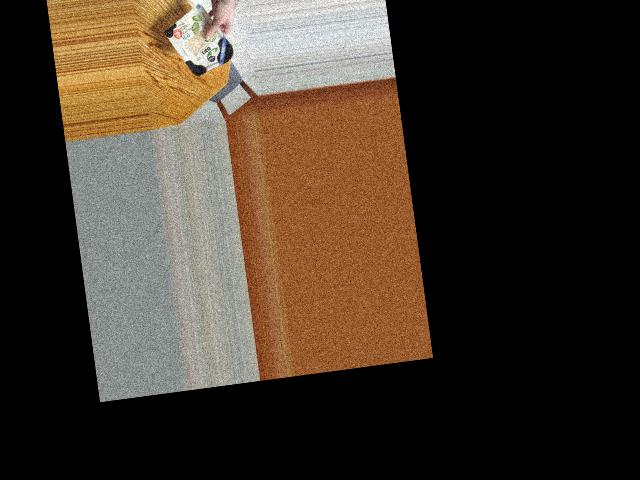cheese: (166, 8, 234, 77)
